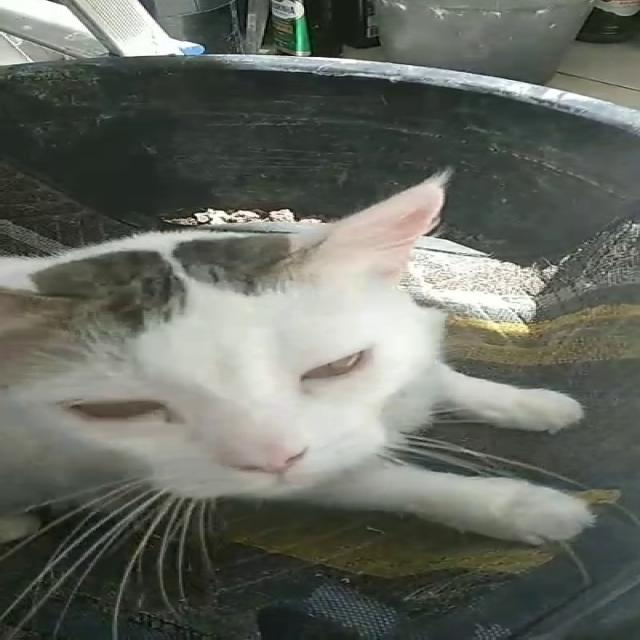Simba: (3, 173, 583, 538)
